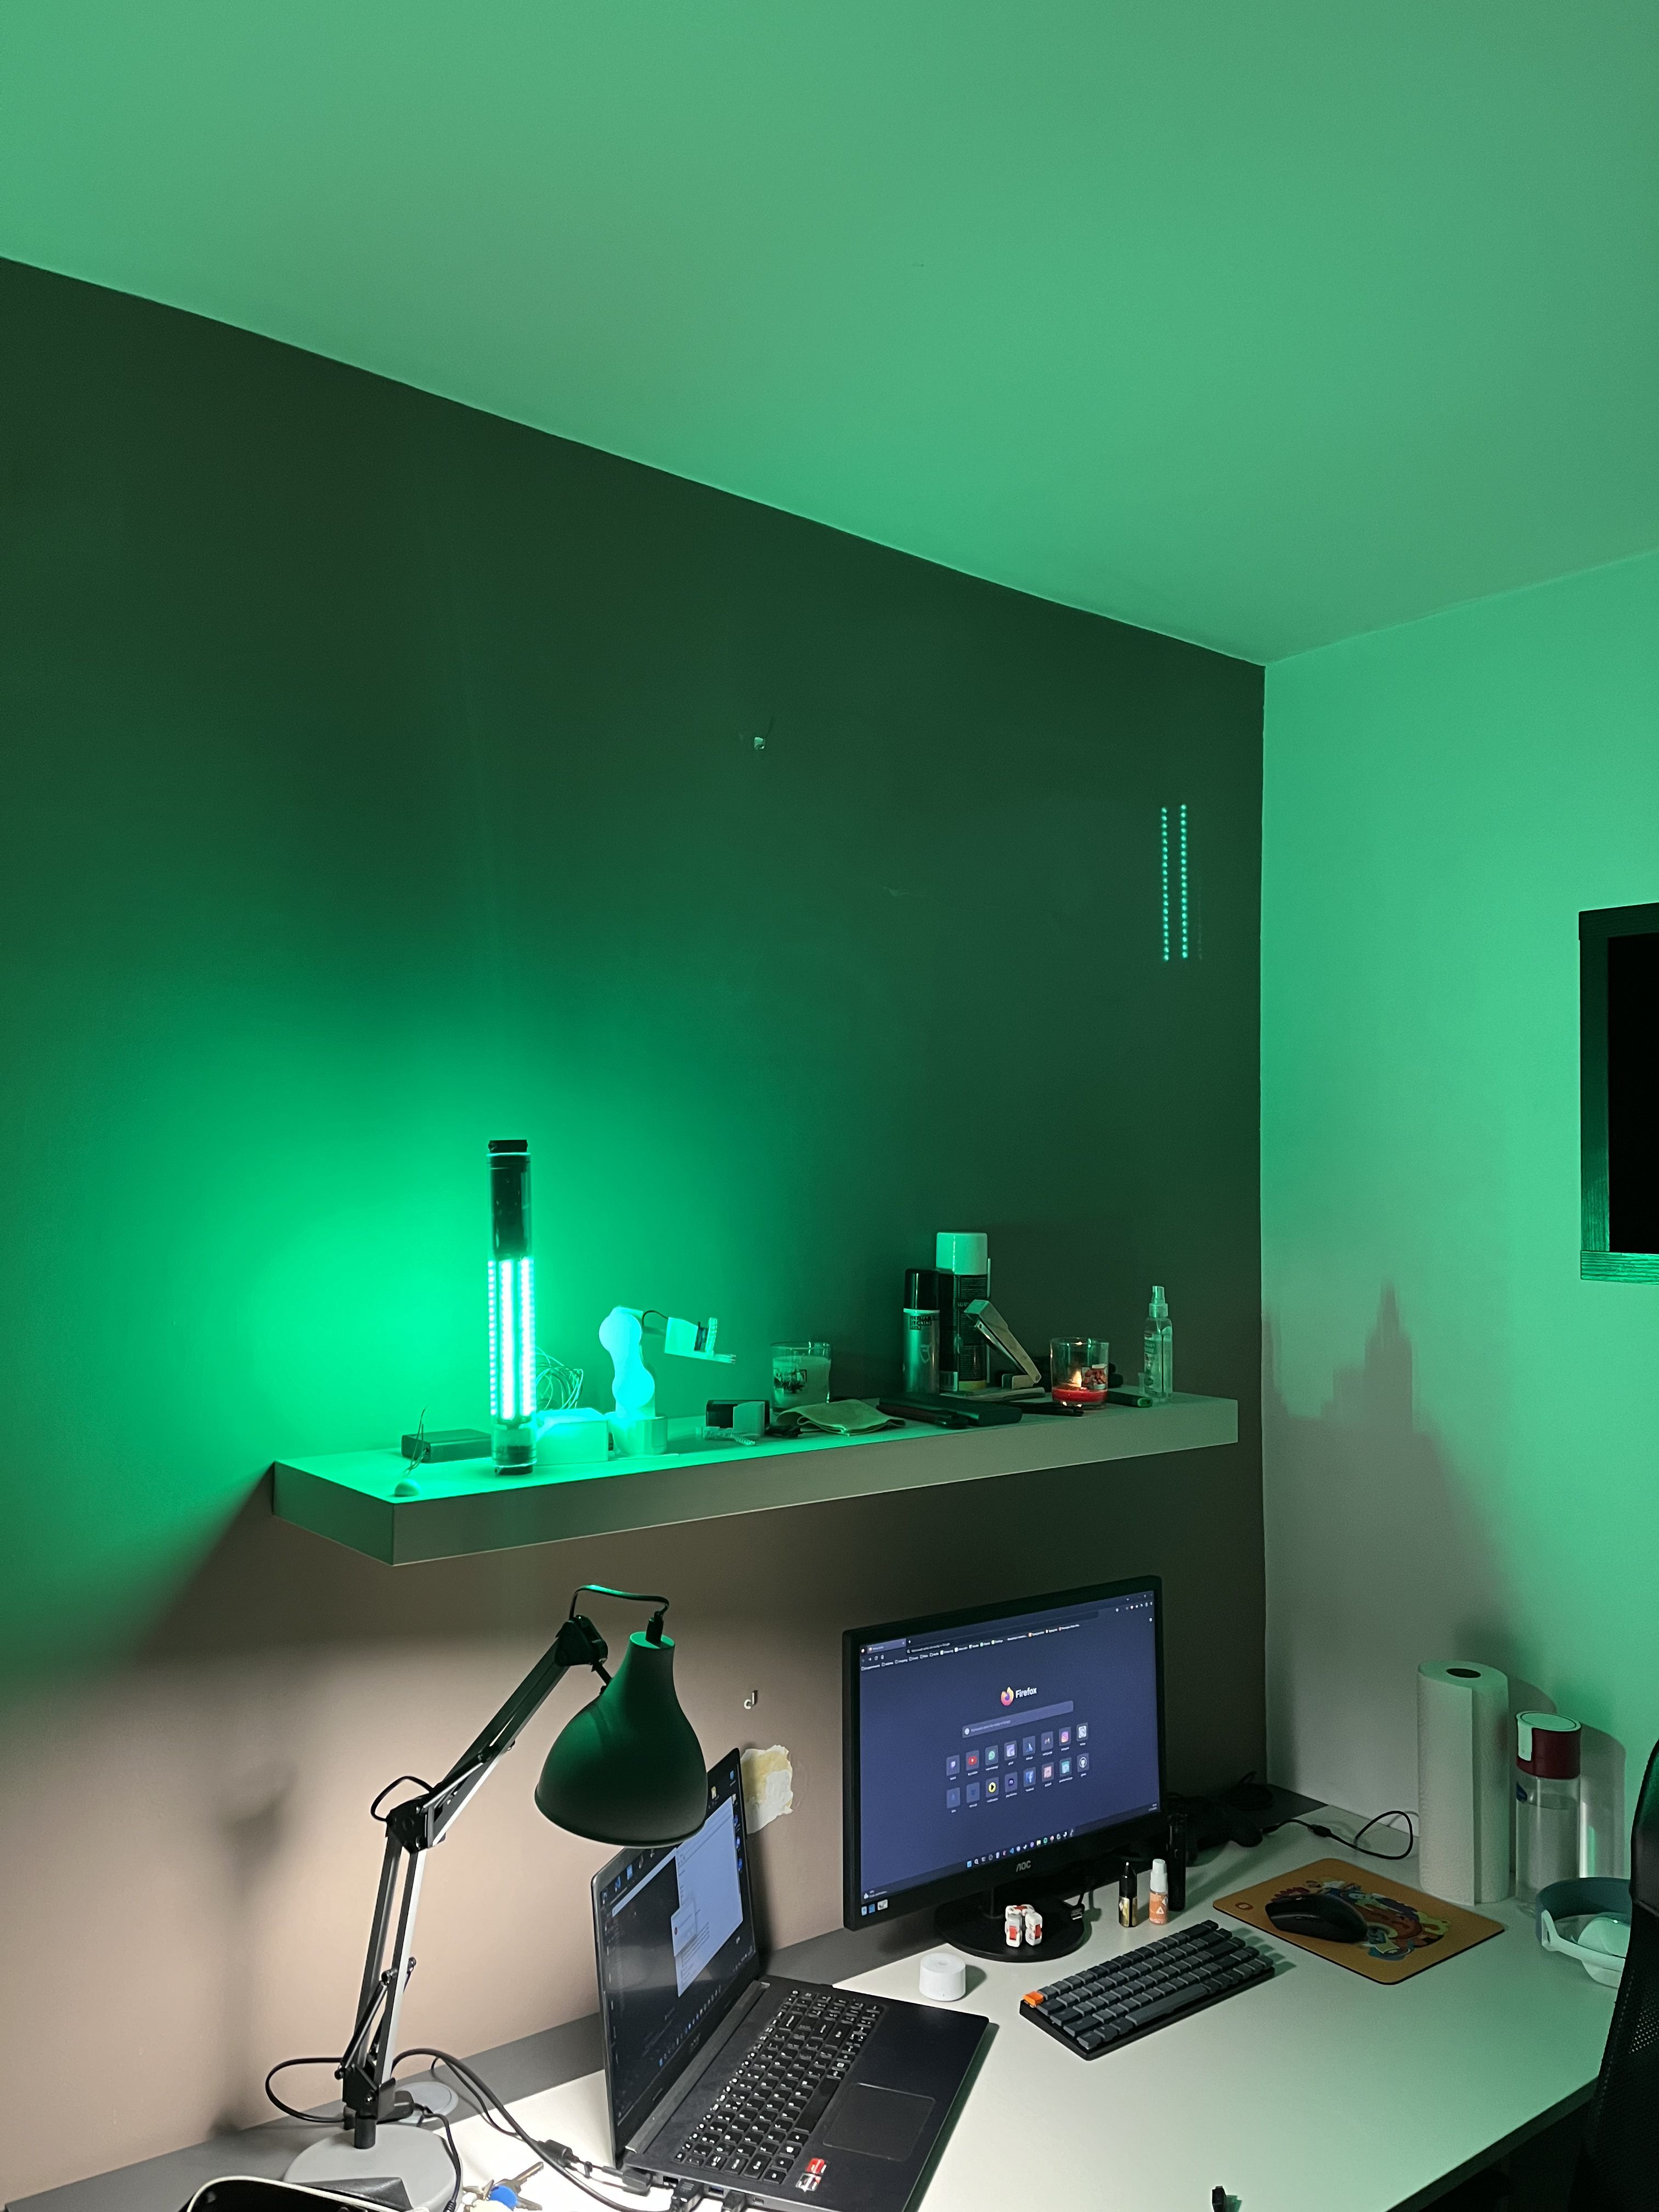green: (488, 1151, 533, 1468)
